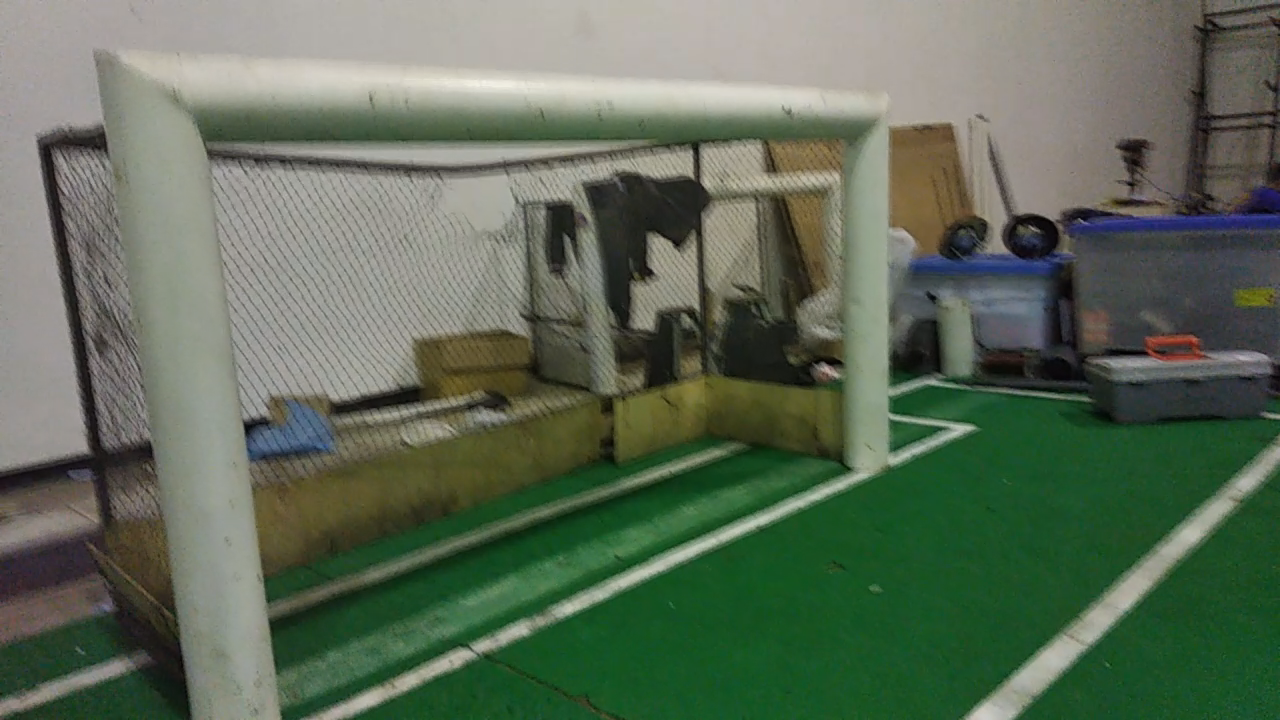gawang: (75, 29, 897, 717)
